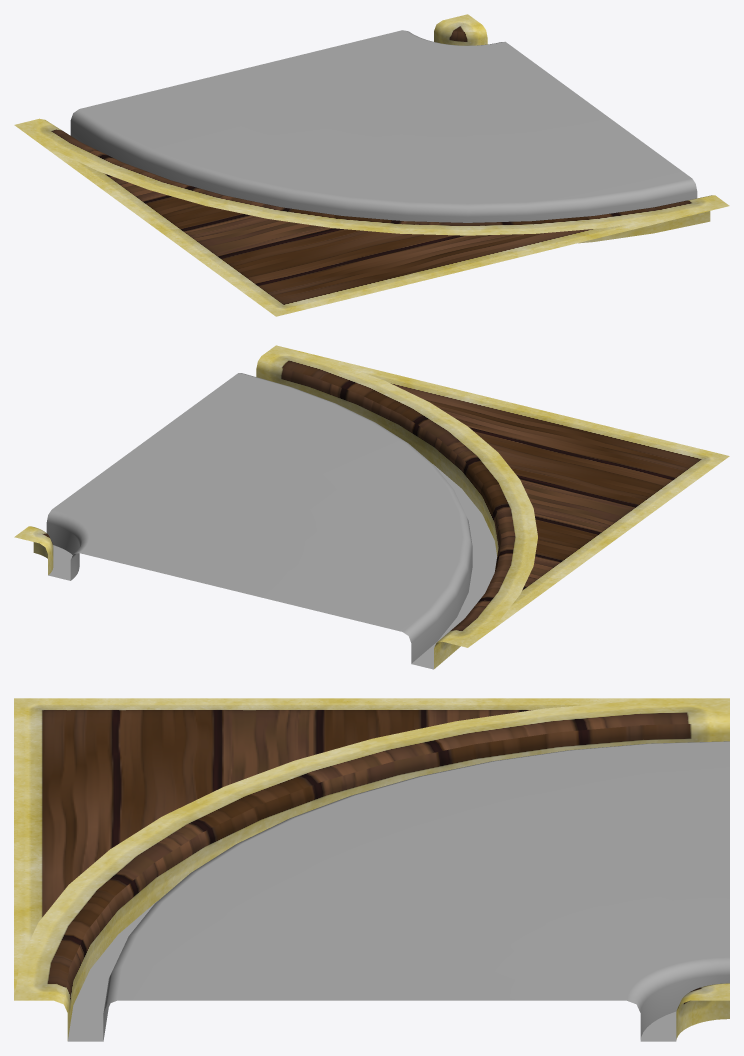
Rendered from Env_Cnt_Conveyor_Curved_L.fbx.
The picture shows the model from 3 angles, top to bottom: view 1: azimuth 30°, elevation 25°; view 2: azimuth 150°, elevation 25°; view 3: azimuth 270°, elevation 25°; orthographic projection. The views are drawn at different scales.
Parts seen in each view (by area): view 1: Convery_Curved_L16; view 2: Convery_Curved_L16; view 3: Convery_Curved_L16.
Boxes of the visible parts, x1,y1,x2,y2 form: Convery_Curved_L16: [14, 14, 729, 316]; Convery_Curved_L16: [14, 345, 729, 669]; Convery_Curved_L16: [14, 698, 729, 1041].
Size of the model in its own units: 100 by 6.31 by 100.
